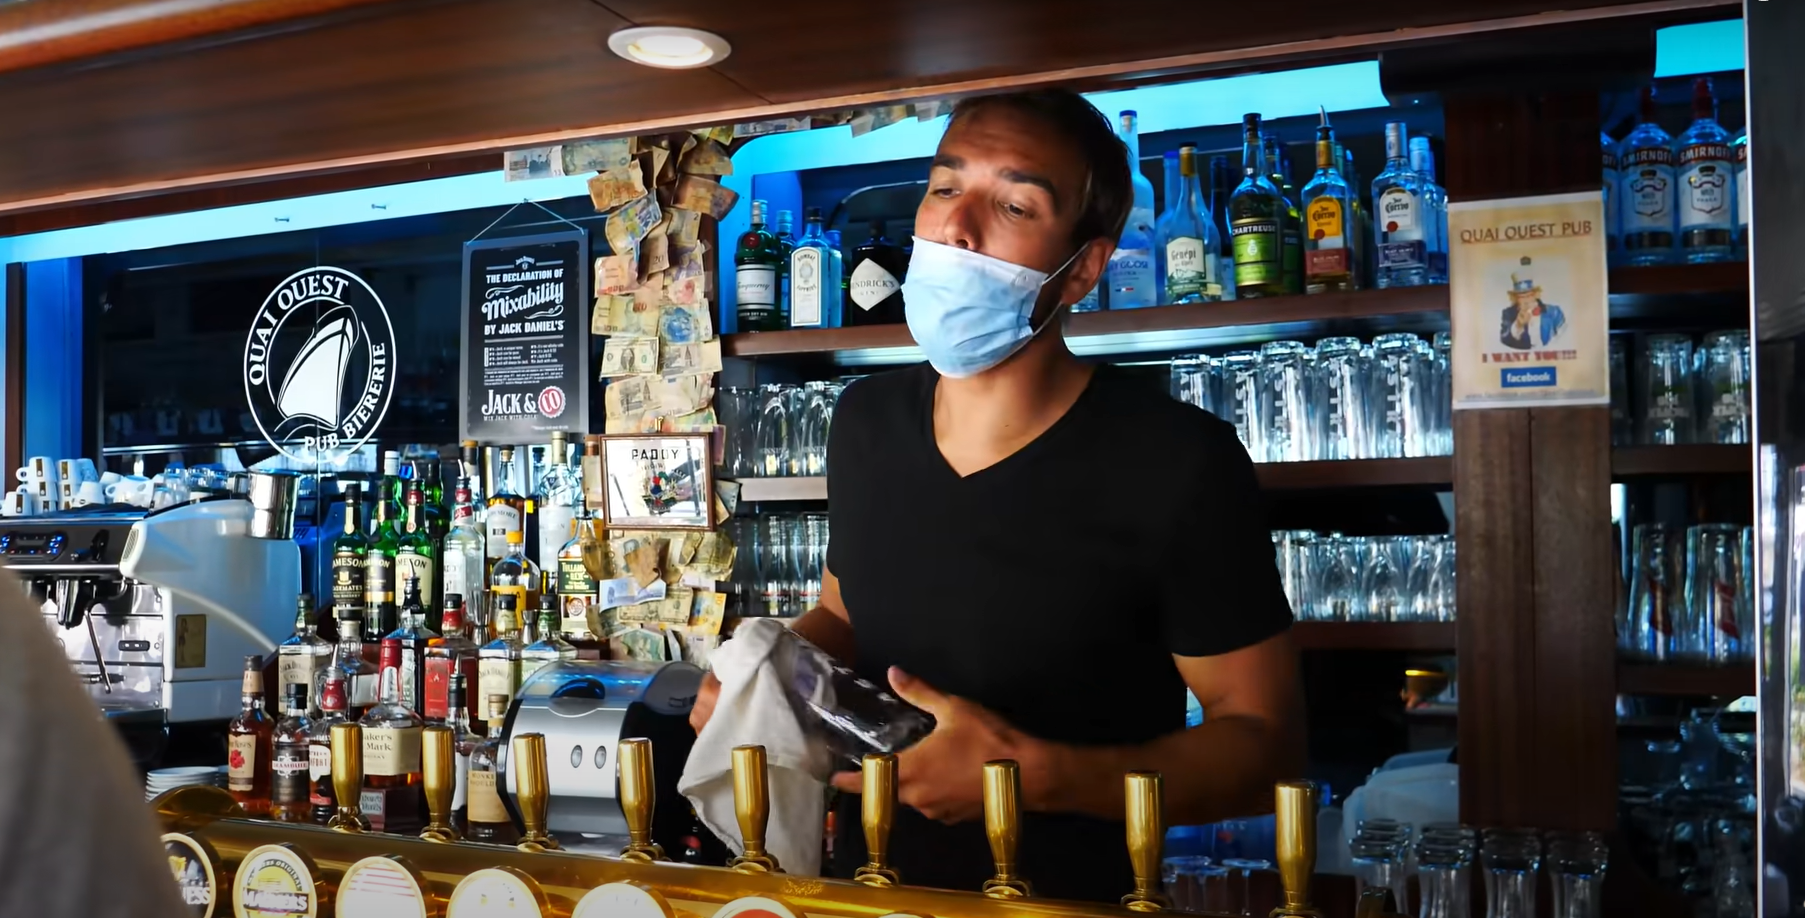with_incorrect_mask: (917, 155, 1057, 346)
